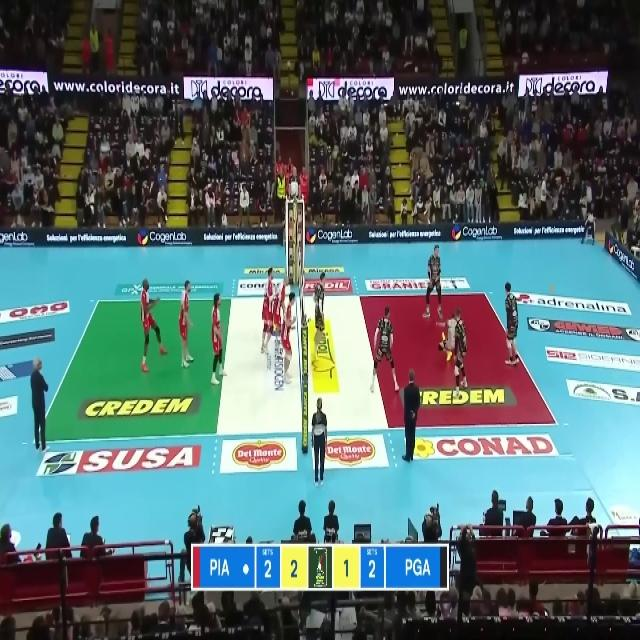volleyball court: (33, 291, 561, 443)
